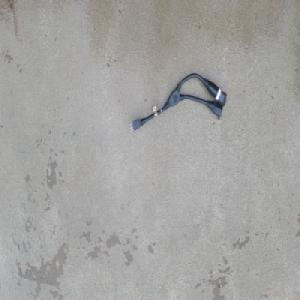Wire: (128, 71, 227, 133)
